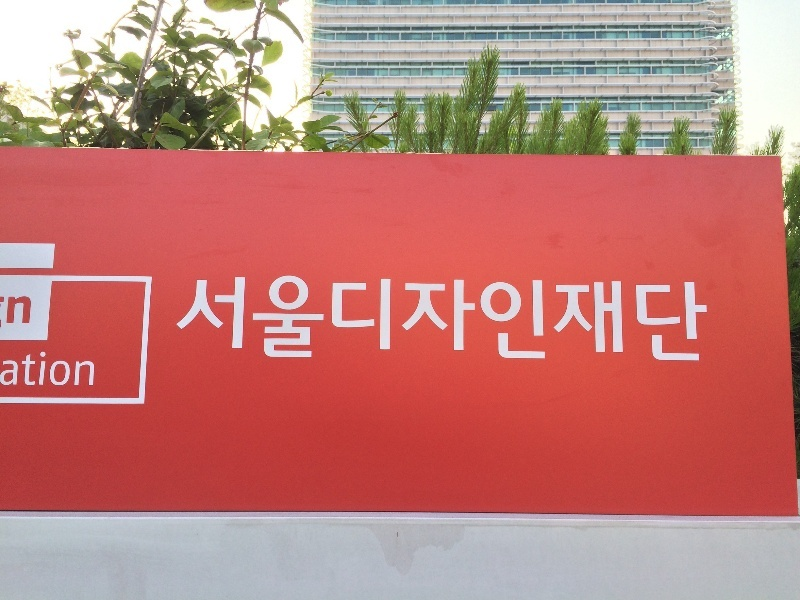text: (193, 273, 208, 367), (209, 273, 224, 367), (225, 273, 240, 367), (241, 273, 256, 367), (257, 273, 272, 367), (273, 273, 288, 367), (289, 273, 304, 367), (305, 273, 320, 367), (321, 273, 336, 367), (337, 273, 352, 367), (353, 273, 368, 367), (369, 273, 384, 367), (385, 273, 400, 367), (401, 273, 416, 367), (417, 273, 432, 367), (433, 273, 448, 367), (449, 273, 464, 367), (465, 273, 480, 367), (481, 273, 496, 367), (497, 273, 512, 367), (513, 273, 528, 367), (529, 273, 544, 367), (545, 273, 560, 367), (561, 273, 576, 367), (577, 273, 592, 367), (593, 273, 608, 367), (609, 273, 624, 367), (625, 273, 640, 367), (641, 273, 656, 367), (657, 273, 672, 367), (673, 273, 688, 367), (689, 273, 704, 367), (1, 350, 16, 392), (17, 350, 32, 392), (33, 350, 48, 392), (49, 350, 64, 392), (65, 350, 80, 392), (81, 350, 96, 392), (705, 273, 711, 367), (1, 296, 16, 332), (17, 296, 31, 332), (188, 273, 192, 367), (97, 350, 98, 392)
